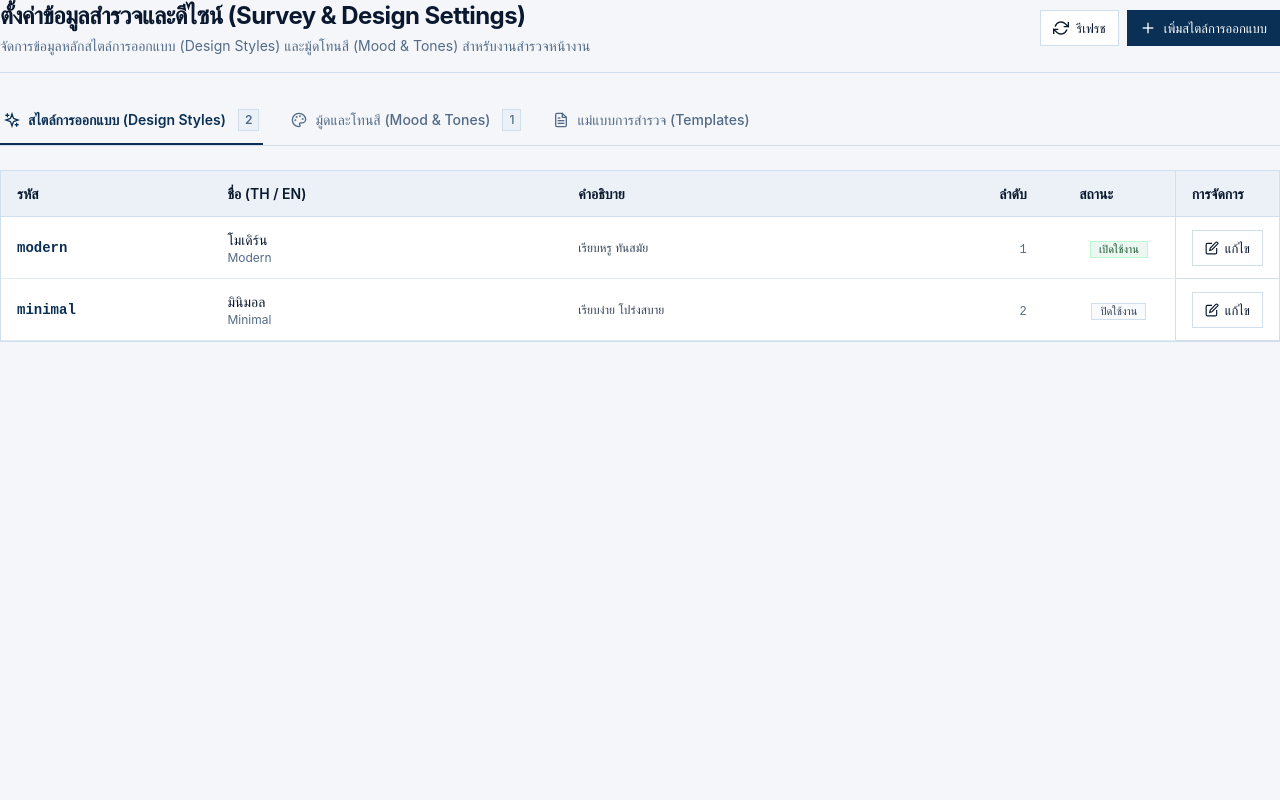
SurveyMasterDataManager › opens edit drawer with prefilled data when edit button is clicked
The image size is (1280, 800).
Click the button "แก้ไข" in the row of "โมเดิร์น": (1227, 248) [1192, 230, 1263, 266]
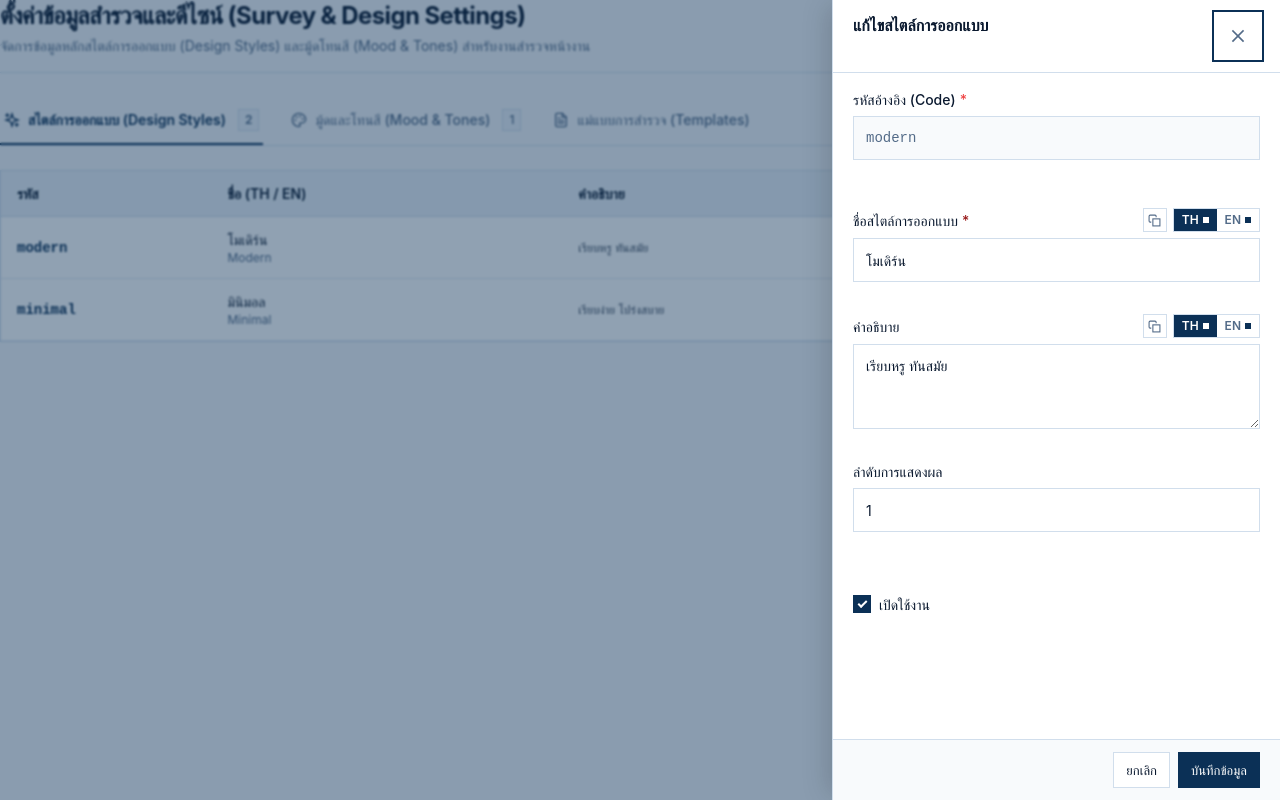
Check: the field showing "modern" is disabled, box [853, 116, 1260, 160]
Check: the field showing "โมเดิร์น" is shown, box [853, 238, 1260, 282]
